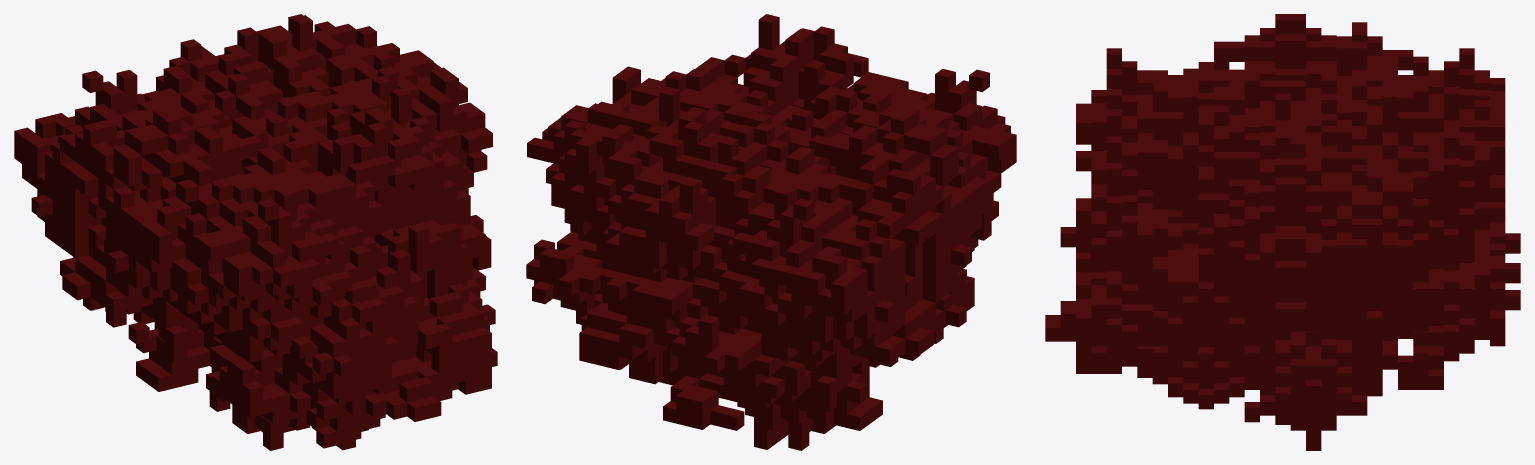
The model's file is bad-15.obj.
3 views of the same model, side by side, from view 1: azimuth 30°, elevation 25°; view 2: azimuth 150°, elevation 25°; view 3: azimuth 270°, elevation 25° (orthographic).
Bounding box in the file's own units: 2.9 × 2.5 × 3.1.
1 material, 1 textured.
